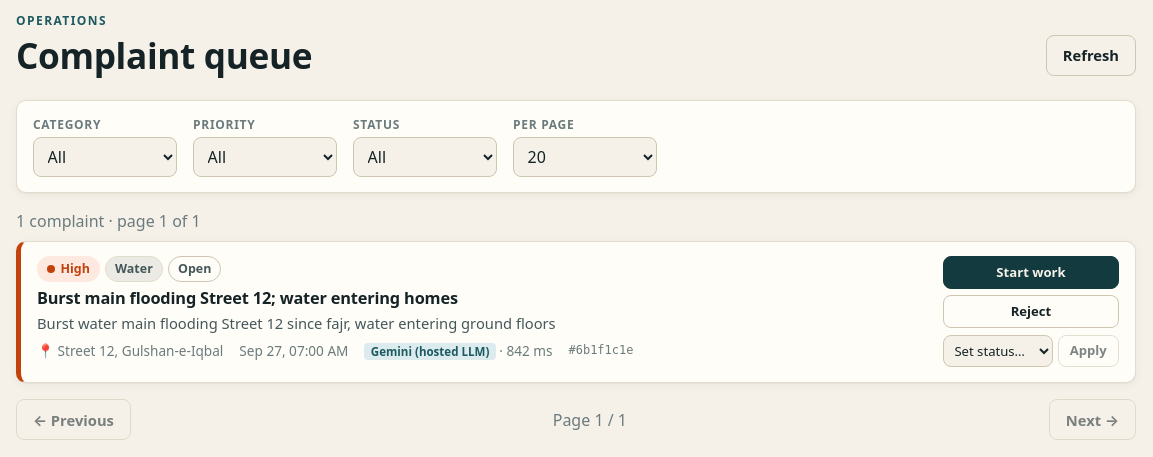
DashboardPage › applies a valid transition and updates the row in place
Click the button "Start work": (1031, 272) [943,256,1119,289]
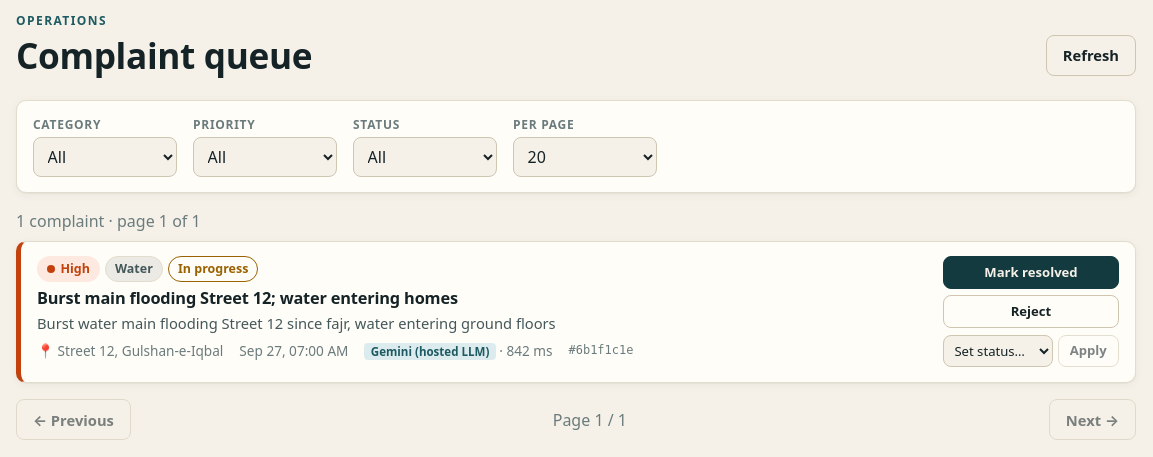
Now the button "Mark resolved" is shown, box [943,256,1119,289]
